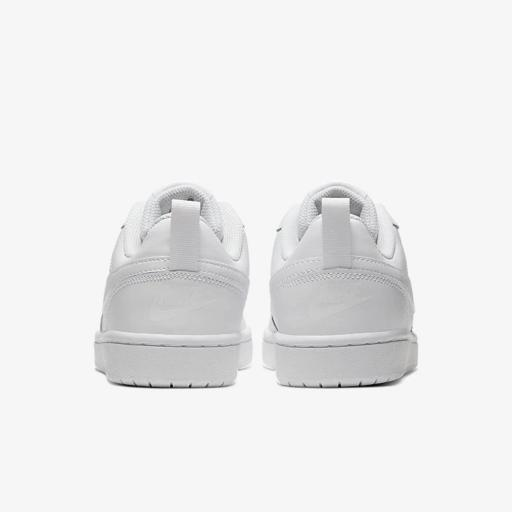shoe: (94, 182, 252, 388), (263, 182, 418, 387)
